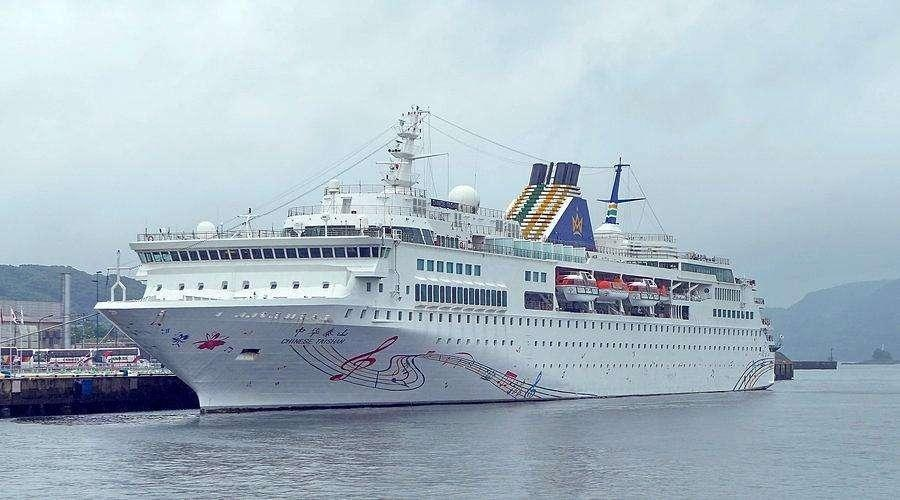youlun: (90, 106, 791, 403)
